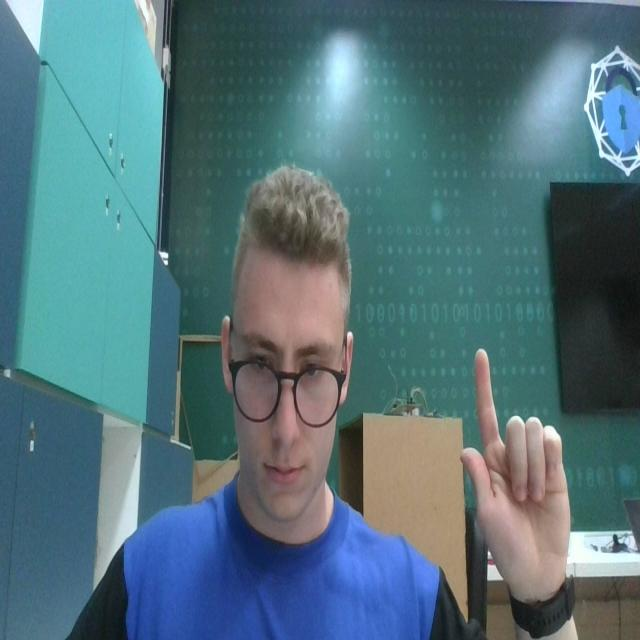G: (459, 342, 574, 588)
